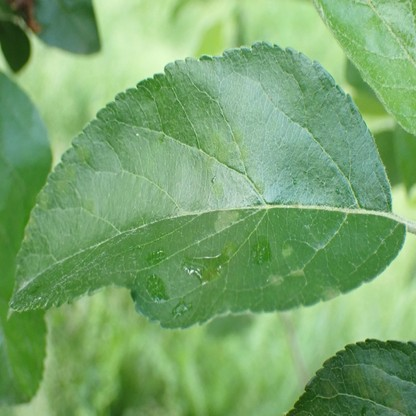powdery_mildew: (16, 279, 28, 295)
scab: (55, 148, 90, 193), (213, 125, 246, 164), (378, 381, 399, 412), (214, 209, 239, 231), (35, 189, 48, 213), (204, 265, 221, 281), (323, 287, 340, 299), (223, 240, 234, 257), (267, 272, 282, 284), (256, 179, 266, 196), (84, 198, 95, 212), (214, 183, 223, 196), (290, 268, 304, 276), (23, 229, 31, 243), (282, 245, 292, 256), (206, 155, 214, 168)
